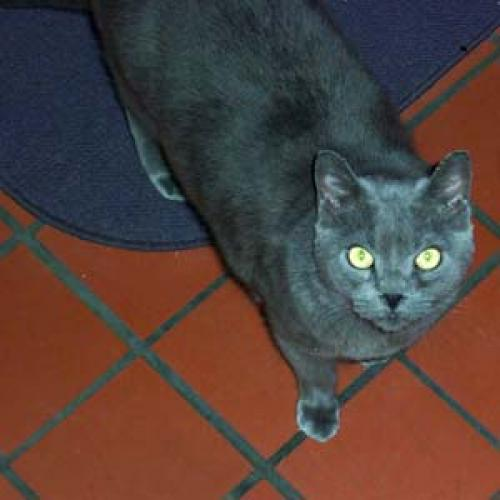rblue: (302, 140, 486, 343)
